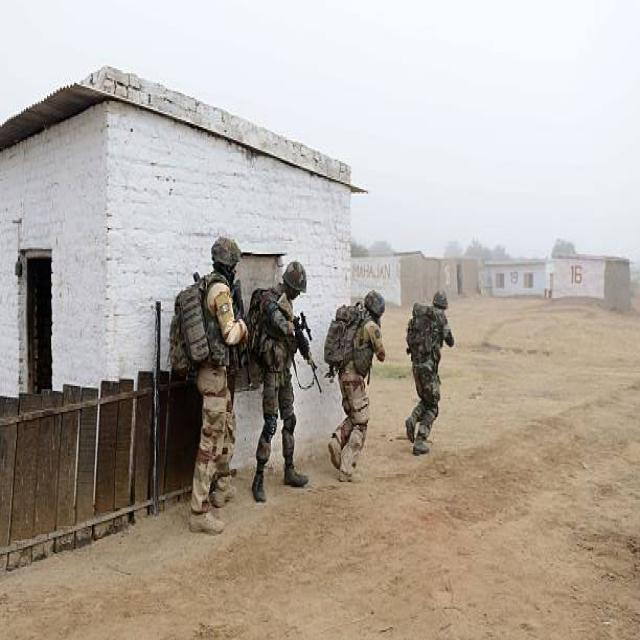soldier: (170, 235, 247, 535), (245, 262, 322, 504), (324, 290, 385, 483), (406, 292, 454, 455)
